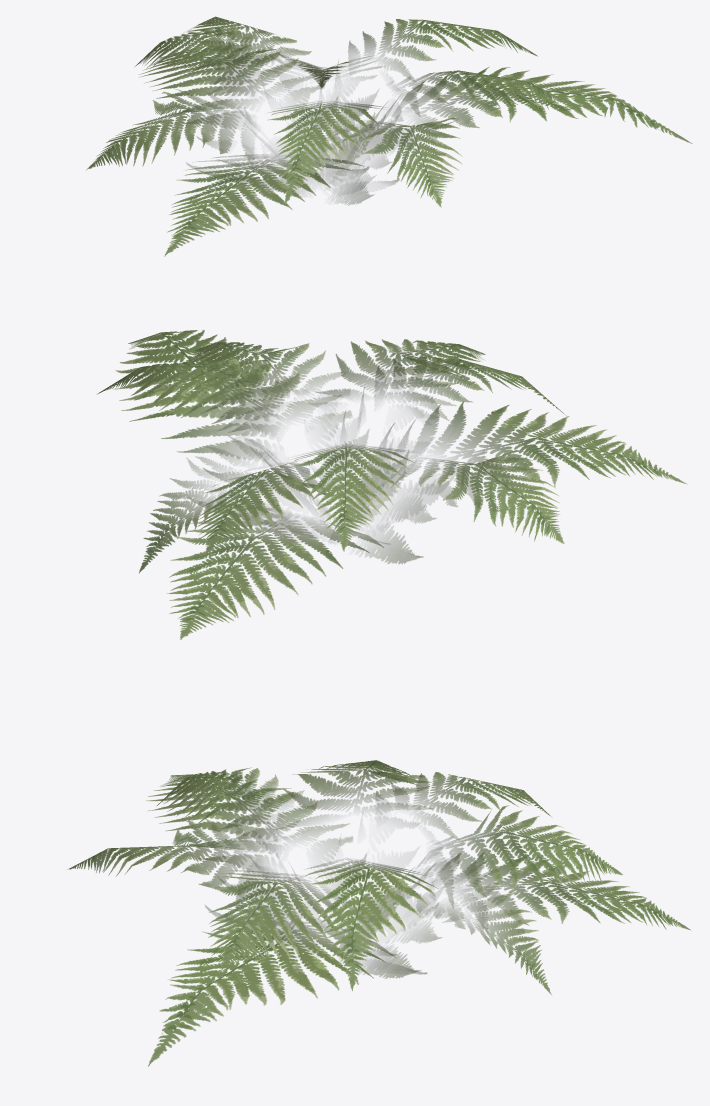
3 views of the same model, one above another, from view 1: azimuth 30°, elevation 25°; view 2: azimuth 150°, elevation 25°; view 3: azimuth 270°, elevation 25° (orthographic). The views are drawn at different scales.
Parts seen in each view (by area): view 1: Object_2; view 2: Object_2; view 3: Object_2.
Boxes of the visible parts, <box> form: Object_2: <box>86,16,692,256</box>; Object_2: <box>97,329,687,639</box>; Object_2: <box>67,760,691,1066</box>.
Bounding box in the file's own units: 2.6 × 0.6654 × 2.3.
Materials: 1 (1 with a texture image).
